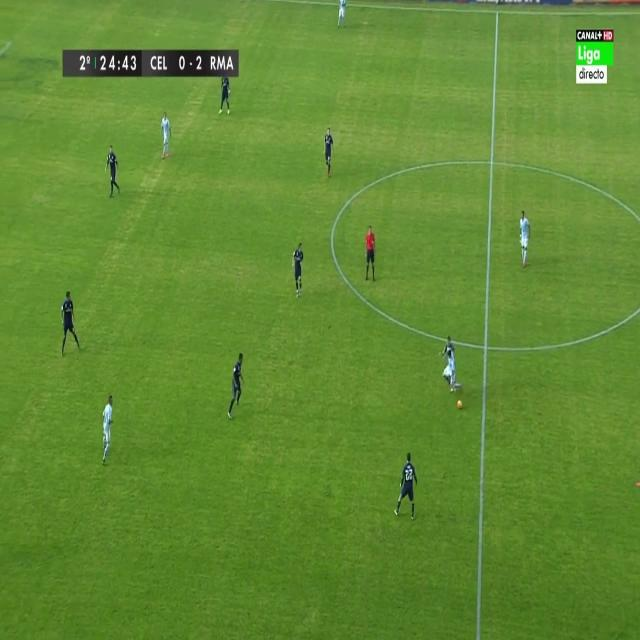Ball: (454, 396, 465, 413)
Player: (392, 452, 420, 522), (58, 288, 82, 360), (438, 331, 463, 395), (227, 352, 246, 424), (101, 394, 117, 463), (103, 144, 122, 202), (290, 240, 307, 300), (517, 207, 532, 273), (158, 111, 174, 163), (324, 125, 336, 177), (218, 78, 233, 118), (335, 0, 349, 30)
Referee: (363, 222, 378, 286)
